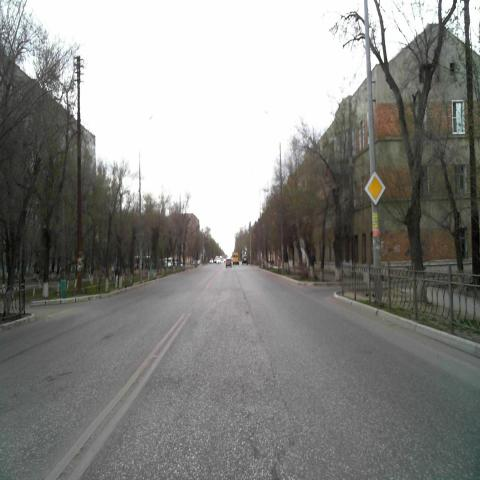2_1: (364, 171, 386, 206)
